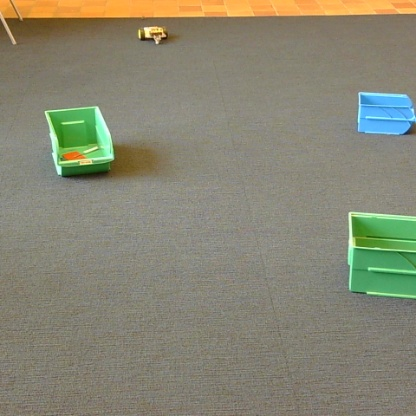robot: (138, 27, 168, 44)
